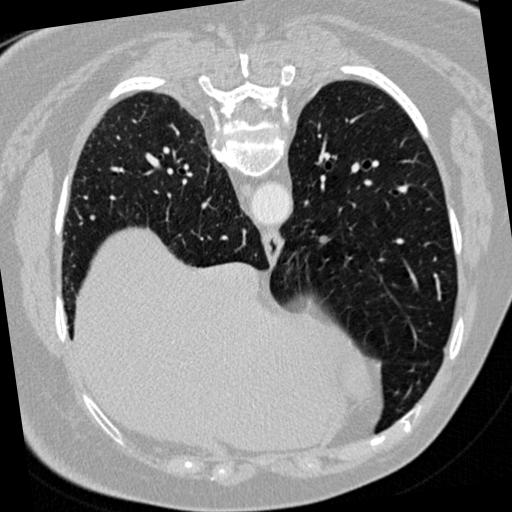nodule: (316, 233, 331, 248)
